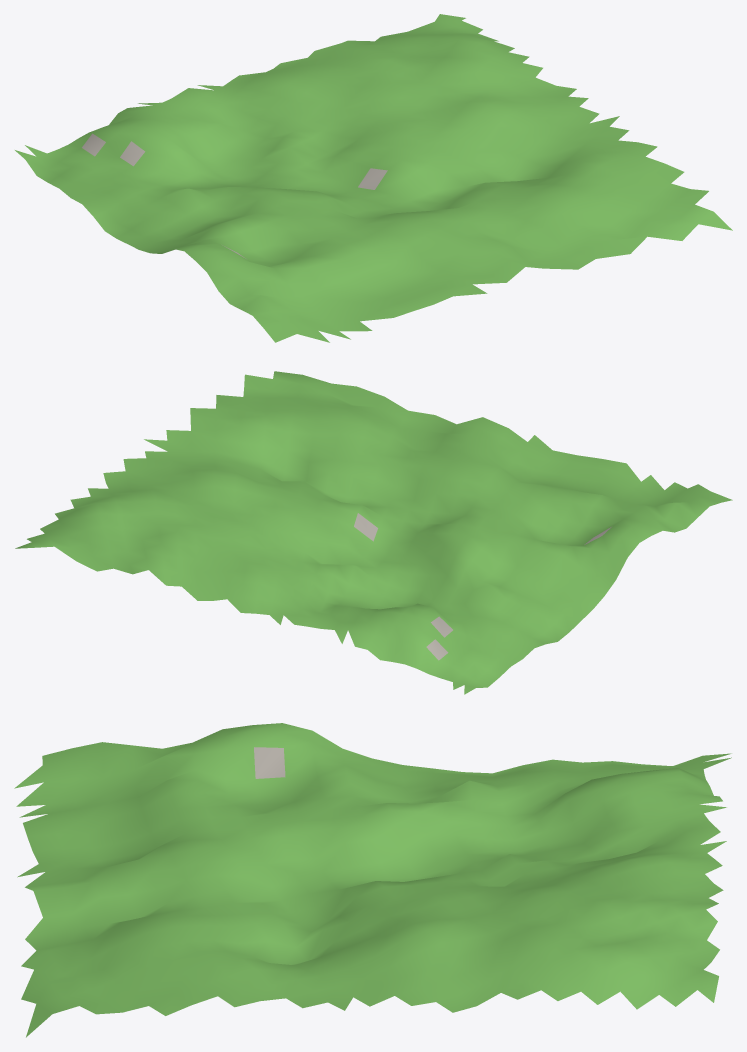
File: flagship_terrain_302.glb
3 renders of one model, top to bottom at view 1: azimuth 30°, elevation 25°; view 2: azimuth 150°, elevation 25°; view 3: azimuth 270°, elevation 25°, orthographic. The views are drawn at different scales.
Parts seen in each view (by area): view 1: Terrain_302; view 2: Terrain_302; view 3: Terrain_302.
Boxes of the visible parts, <box> form: Terrain_302: <box>15,14,732,342</box>; Terrain_302: <box>15,371,732,694</box>; Terrain_302: <box>14,723,731,1037</box>.
Bounding box in the file's own units: 31.11 × 3.95 × 31.93.
